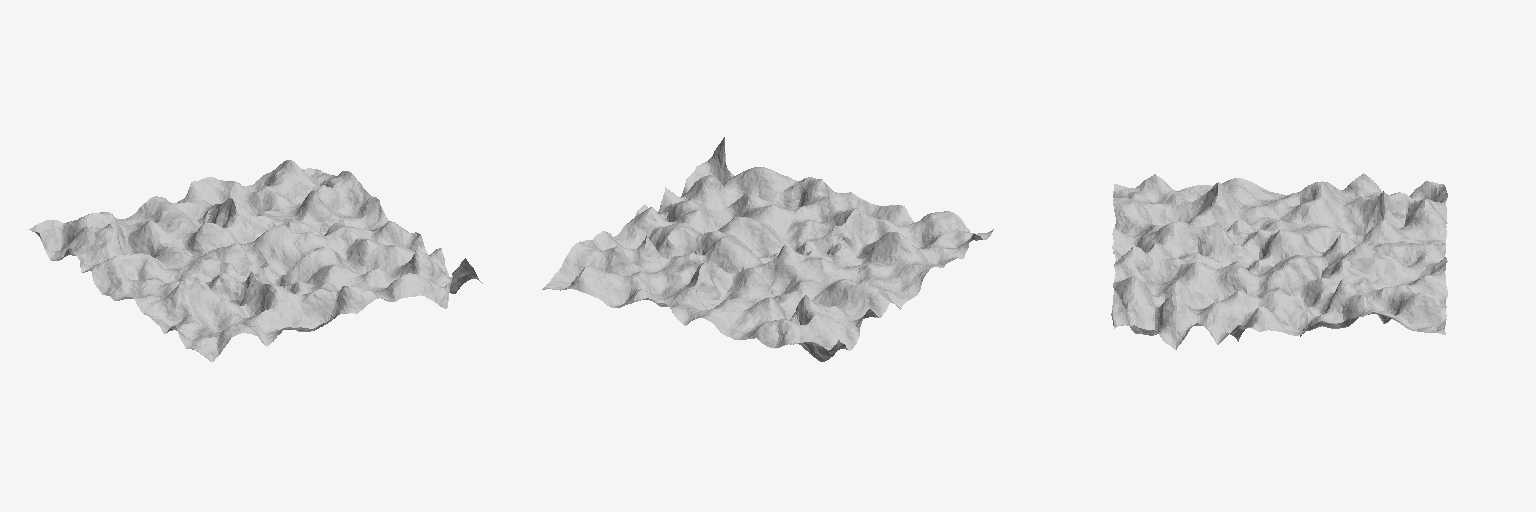
Rendered from ground.obj.
The picture shows the model from 3 angles: view 1: azimuth 30°, elevation 25°; view 2: azimuth 150°, elevation 25°; view 3: azimuth 270°, elevation 25°; orthographic projection.
Visible parts, largest first — view 1: ground.obj; view 2: ground.obj; view 3: ground.obj.
Part boxes in pixels (bbox=[...]): ground.obj: bbox=[29, 160, 482, 361]; ground.obj: bbox=[542, 137, 993, 361]; ground.obj: bbox=[1111, 173, 1447, 349].
Size of the model in its own units: 1015 by 188 by 1015.